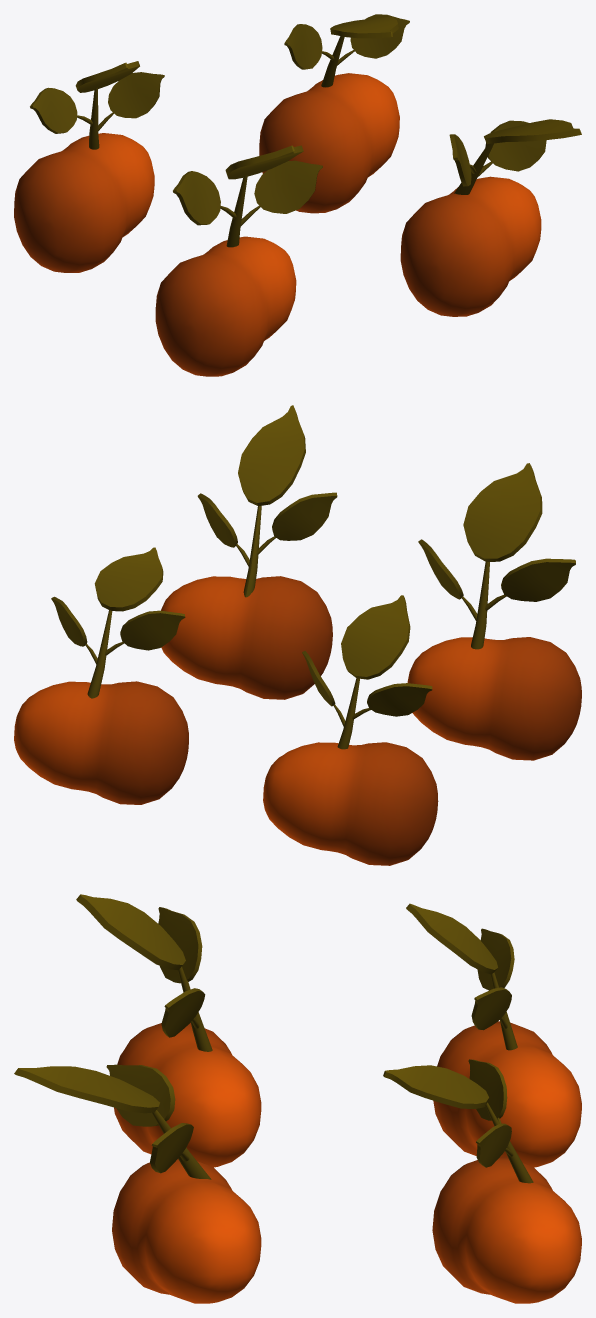
File: Farm_Crop_Potato_Dead.fbx
3 views of the same model, one above another, from view 1: azimuth 30°, elevation 25°; view 2: azimuth 150°, elevation 25°; view 3: azimuth 270°, elevation 25° (orthographic). The views are drawn at different scales.
Visible parts, largest first — view 1: Farm_Crop_Potato_Dead; view 2: Farm_Crop_Potato_Dead; view 3: Farm_Crop_Potato_Dead.
Part boxes in pixels (left/top/right/bottom): Farm_Crop_Potato_Dead: left=14, top=14, right=581, bottom=376; Farm_Crop_Potato_Dead: left=14, top=405, right=581, bottom=865; Farm_Crop_Potato_Dead: left=14, top=894, right=581, bottom=1303.
Bounding box in the file's own units: 159 × 96.31 × 177.
